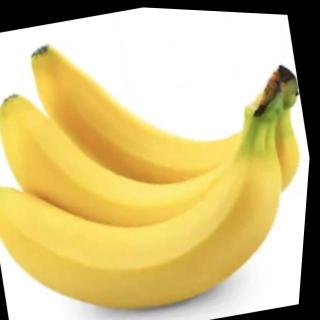banana: (15, 1, 320, 250), (0, 33, 302, 280), (0, 120, 312, 320)
